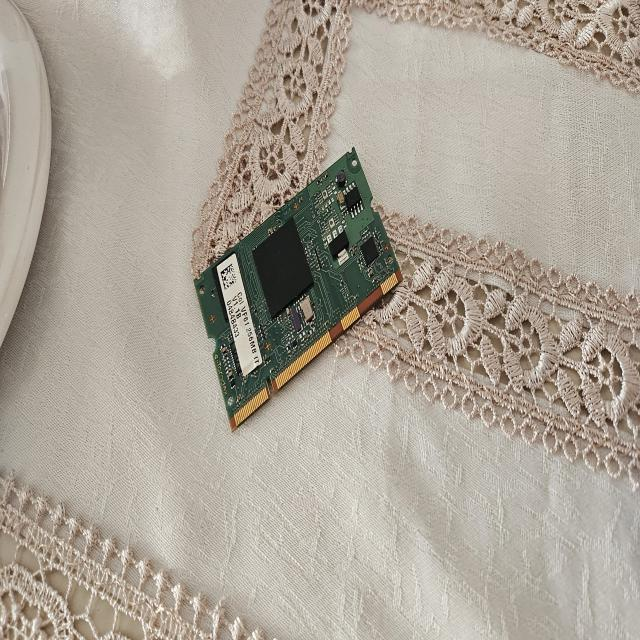som: (187, 142, 407, 442)
